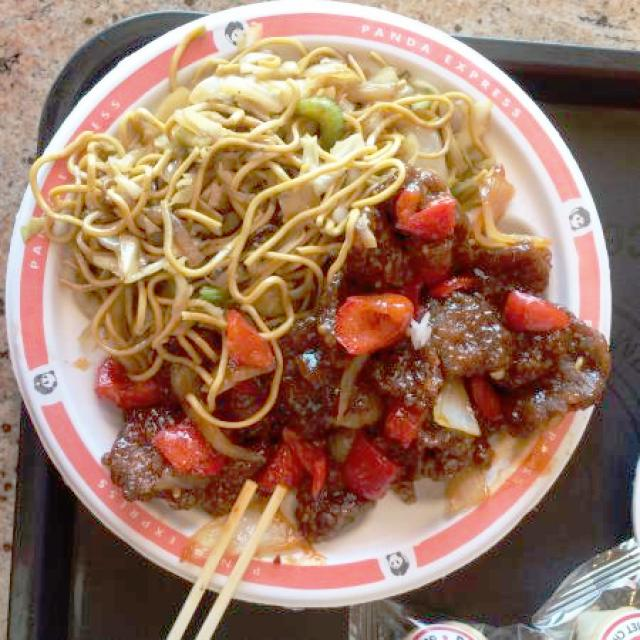Beijing Beef: (114, 352, 605, 482), (405, 199, 603, 427), (341, 269, 545, 411)
Chow Mein: (71, 49, 444, 305)
